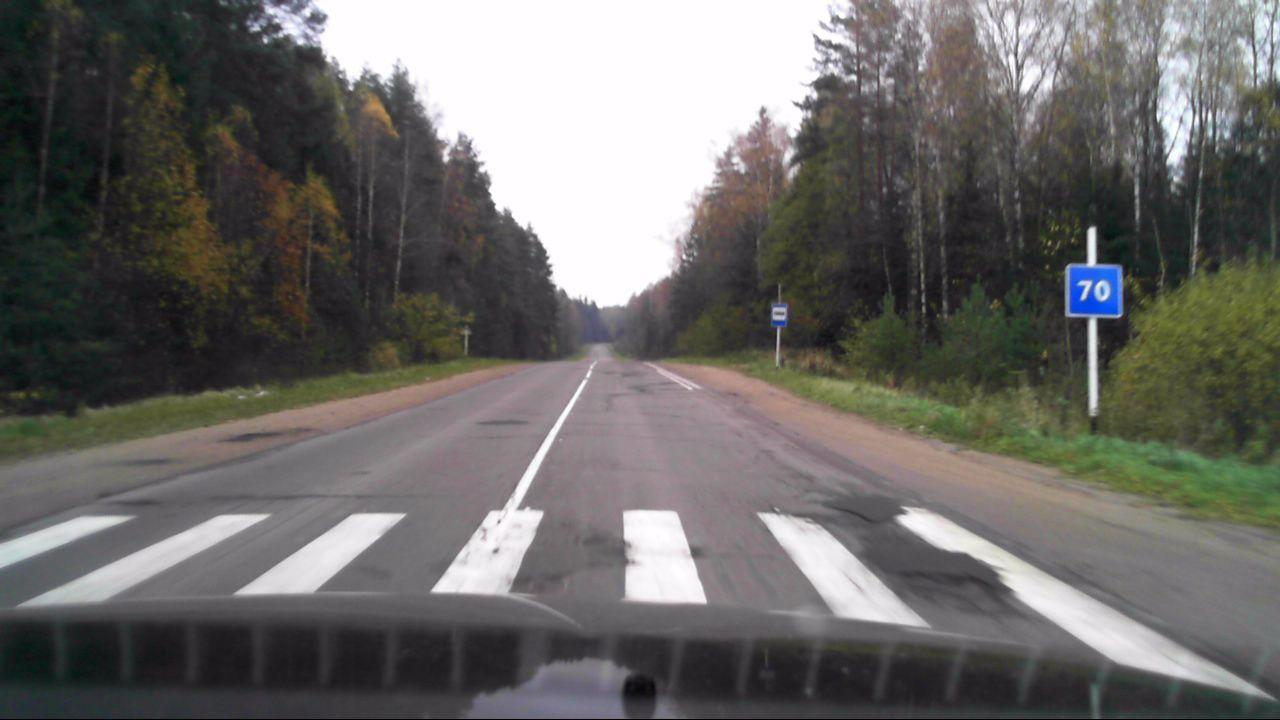5_16: (770, 303, 788, 328)
6_2: (1064, 262, 1124, 319)
